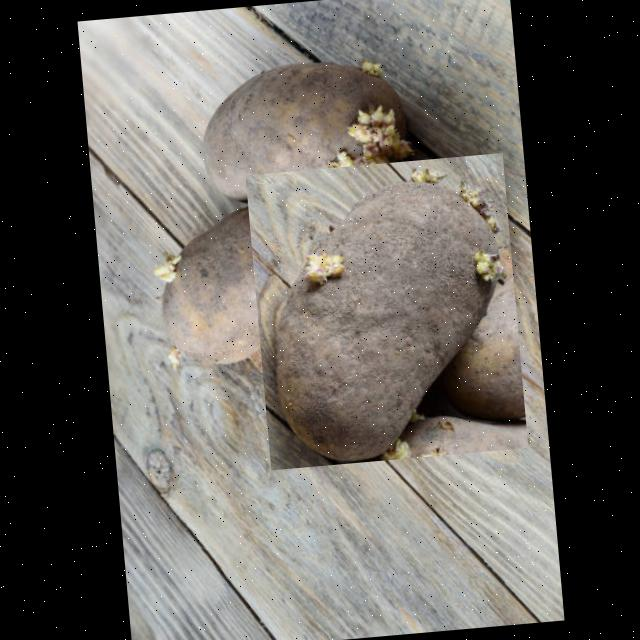Sprouted potato: (245, 152, 528, 468), (172, 41, 428, 230), (138, 190, 340, 386)
